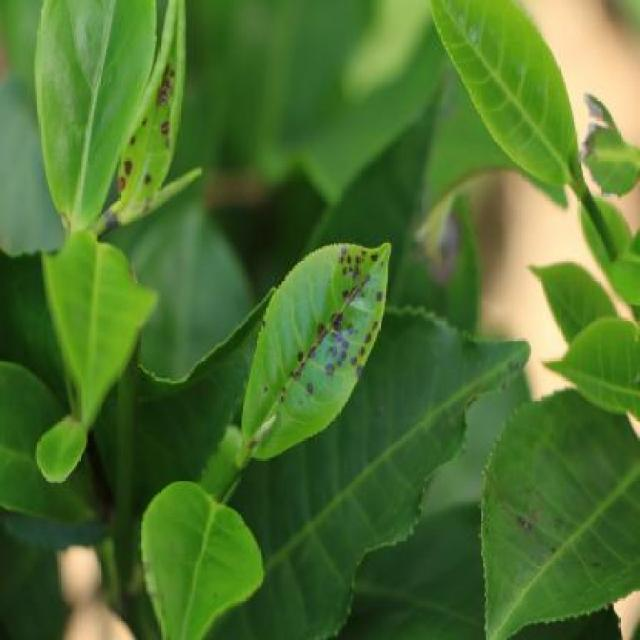Tea Mosquito bug infested leaf: (244, 234, 390, 454), (114, 19, 186, 228)
